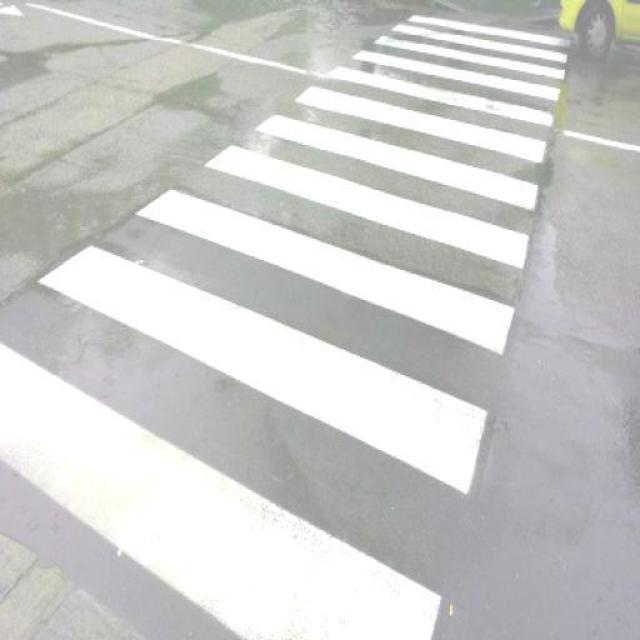crosswalk: (0, 10, 574, 637)
